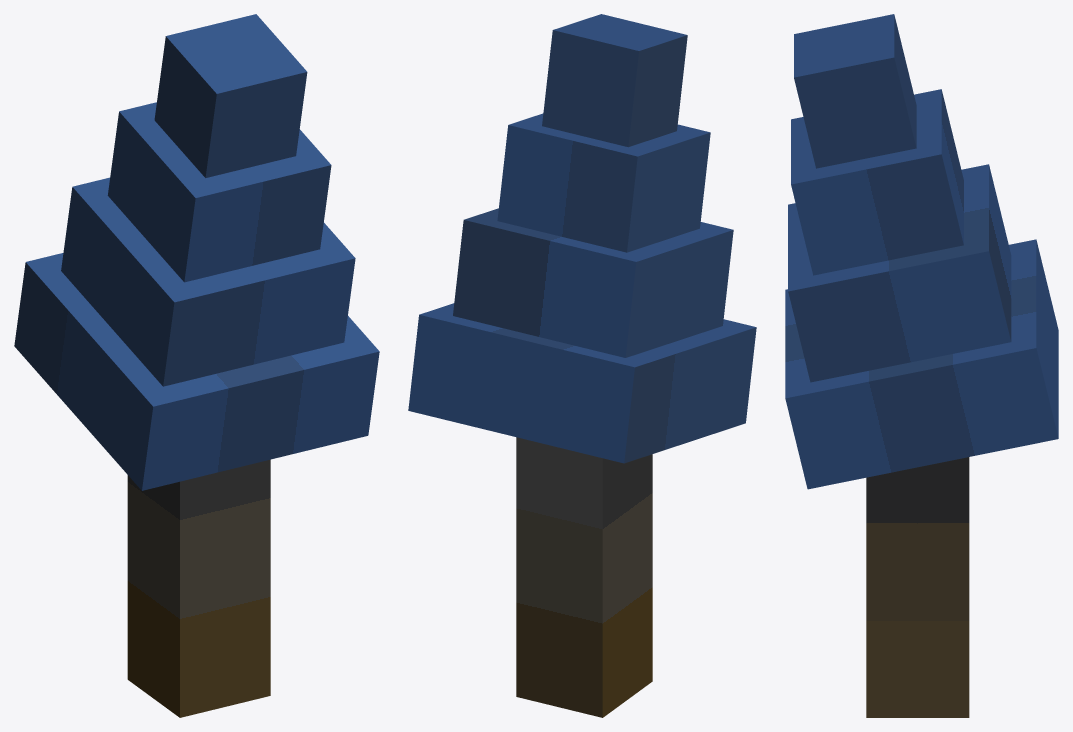
Rendered from grib_3.fbx.
3 views of the same model, side by side, from view 1: azimuth 30°, elevation 25°; view 2: azimuth 150°, elevation 25°; view 3: azimuth 270°, elevation 25° (orthographic). The views are drawn at different scales.
Parts seen in each view (by area): view 1: cuboid_4, cuboid, cuboid_3, cuboid_2, cuboid_1; view 2: cuboid_4, cuboid, cuboid_3, cuboid_2, cuboid_1; view 3: cuboid_4, cuboid_3, cuboid, cuboid_2, cuboid_1.
Part boxes in pixels (x1,y1,x2,y2): cuboid_4: [14, 253, 379, 490]; cuboid: [127, 459, 270, 717]; cuboid_3: [61, 177, 355, 386]; cuboid_2: [107, 102, 331, 282]; cuboid_1: [154, 14, 307, 177]; cuboid_4: [408, 303, 756, 463]; cuboid: [516, 437, 652, 717]; cuboid_3: [453, 208, 733, 357]; cuboid_2: [497, 113, 710, 252]; cuboid_1: [542, 14, 687, 147]; cuboid_4: [785, 239, 1058, 489]; cuboid_3: [788, 164, 1011, 382]; cuboid: [866, 457, 969, 717]; cuboid_2: [791, 89, 963, 275]; cuboid_1: [794, 14, 916, 168].
Bounding box in the file's own units: 15.62 × 44.28 × 16.61.
